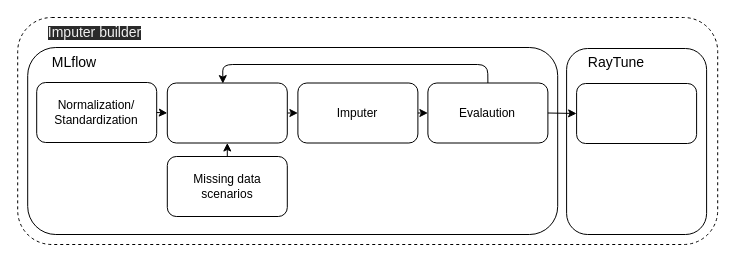
The diagram is 735 pixels wide and 262 high, and some of its shapes have lost their labels. Here are the shapes that lost their labels. From the top down, the centre of each, then its label:
At point 226,112: "Create missing data".
At point 636,113: "HyperParameter tuning".
